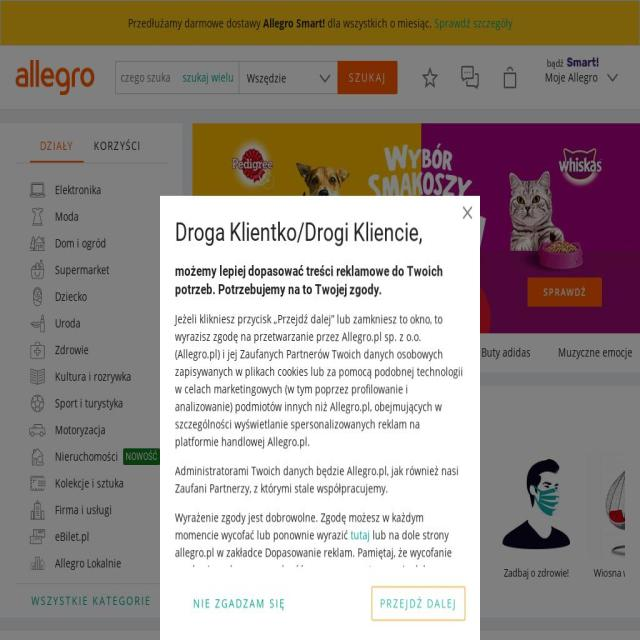button: (192, 124, 640, 334), (208, 449, 290, 589), (300, 449, 382, 589), (403, 449, 485, 589), (495, 449, 577, 589), (587, 449, 640, 589), (15, 584, 167, 618), (15, 203, 167, 230), (15, 230, 167, 257), (15, 283, 167, 310), (15, 310, 167, 337), (15, 363, 167, 390), (15, 390, 167, 417), (15, 443, 167, 470), (15, 470, 167, 497), (15, 523, 167, 550), (15, 550, 167, 577), (15, 177, 167, 203), (15, 257, 167, 283), (15, 337, 167, 363), (15, 417, 167, 443), (15, 497, 167, 523), (185, 587, 294, 620), (372, 587, 465, 620), (15, 59, 95, 96), (537, 61, 625, 94), (83, 130, 151, 163), (338, 61, 398, 94), (30, 130, 84, 163), (182, 68, 234, 86), (455, 196, 480, 230), (418, 61, 442, 94), (458, 61, 482, 94), (498, 61, 522, 94)
field: (115, 61, 177, 94)
heading: (175, 262, 465, 299), (175, 216, 465, 249), (207, 401, 625, 419), (15, 59, 95, 96)
image: (0, 0, 640, 640), (116, 124, 640, 334), (208, 449, 290, 559), (300, 449, 382, 559), (403, 449, 485, 559), (495, 449, 577, 559), (587, 449, 640, 559), (25, 178, 50, 202), (25, 258, 50, 282), (25, 338, 50, 362), (25, 418, 50, 442), (25, 498, 50, 522), (25, 205, 50, 228), (25, 232, 50, 255), (25, 285, 50, 308), (25, 312, 50, 335), (25, 365, 50, 388), (25, 392, 50, 415), (25, 445, 50, 468), (25, 472, 50, 495), (25, 525, 50, 548), (25, 552, 50, 575), (458, 199, 478, 227), (315, 65, 335, 92), (420, 64, 440, 91), (460, 64, 480, 91), (500, 64, 520, 91), (602, 64, 622, 91), (567, 58, 599, 66)
link: (433, 15, 512, 31), (351, 527, 370, 543)
text: (175, 310, 465, 451), (175, 526, 464, 596), (175, 462, 465, 498), (175, 607, 465, 640), (175, 509, 424, 543), (246, 62, 313, 95), (128, 15, 263, 31), (55, 363, 131, 390), (538, 61, 598, 94), (55, 470, 124, 497), (55, 390, 123, 417), (55, 550, 121, 577), (324, 15, 434, 31), (55, 443, 118, 470), (55, 497, 112, 523), (555, 343, 636, 361), (198, 343, 278, 361), (287, 343, 367, 361), (376, 343, 456, 361), (466, 343, 546, 361), (55, 257, 109, 283), (55, 230, 106, 257), (55, 417, 106, 443), (55, 177, 101, 203), (208, 566, 290, 579), (300, 566, 382, 579), (403, 566, 485, 579), (495, 566, 577, 579), (263, 15, 325, 31), (93, 136, 141, 156), (55, 523, 89, 550), (55, 337, 89, 363), (55, 283, 87, 310), (587, 565, 640, 579), (55, 310, 81, 337), (40, 136, 74, 156), (55, 203, 79, 230), (123, 448, 160, 465), (349, 69, 386, 85), (547, 56, 566, 70)
